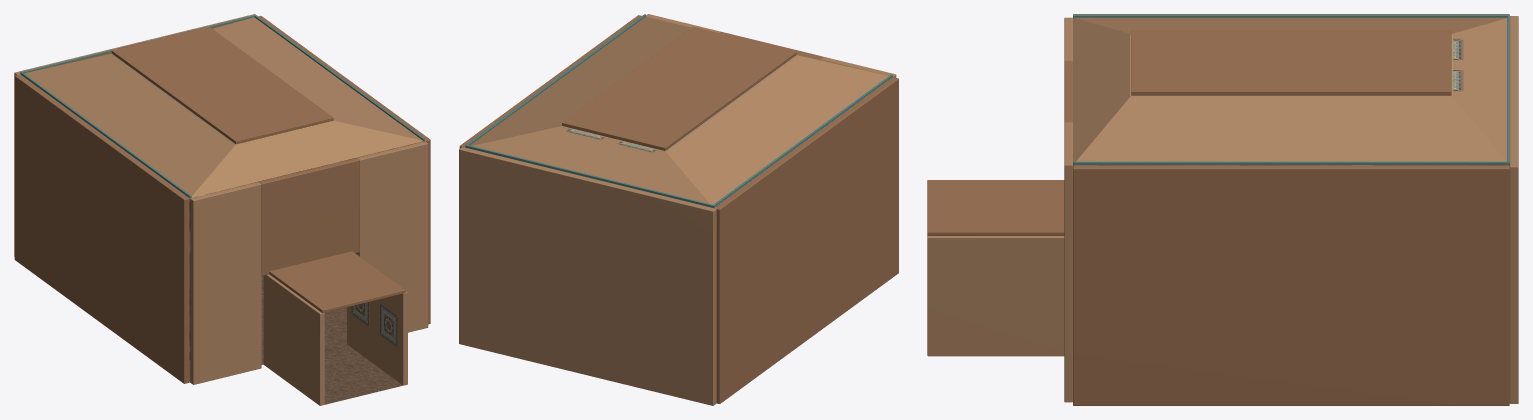
The model's file is interior.glb.
3 views of the same model, side by side, from view 1: azimuth 30°, elevation 25°; view 2: azimuth 150°, elevation 25°; view 3: azimuth 270°, elevation 25° (orthographic). The views are drawn at different scales.
Visible parts, largest first — view 1: cave-interior--plaster, cave-interior--plaster-warm, cave-floor--worn-cave-floor, interior-painted-surfaces--teal, interior-painted-surfaces--lotus-art, interior-painted-surfaces--deer-art; view 2: cave-interior--plaster-warm, cave-interior--plaster, interior-painted-surfaces--teal; view 3: cave-interior--plaster, cave-interior--plaster-warm, interior-painted-surfaces--teal, cave-interior--lotus-art.
Part boxes in pixels (x1,y1,x2,y2): cave-interior--plaster: (14,16,430,383); cave-interior--plaster-warm: (14,14,428,405); cave-floor--worn-cave-floor: (261,276,402,404); interior-painted-surfaces--teal: (20,15,424,198); interior-painted-surfaces--lotus-art: (351,302,397,347); interior-painted-surfaces--deer-art: (21,75,423,381); cave-interior--plaster-warm: (459,14,896,405); cave-interior--plaster: (459,15,898,403); interior-painted-surfaces--teal: (465,14,892,207); cave-interior--plaster: (927,14,1509,405); cave-interior--plaster-warm: (927,16,1518,403); interior-painted-surfaces--teal: (1073,14,1509,164); cave-interior--lotus-art: (1452,38,1463,91).
Bounding box in the file's own units: 25.2 × 20.3 × 40.6.
Materials: 7 (3 with a texture image).
